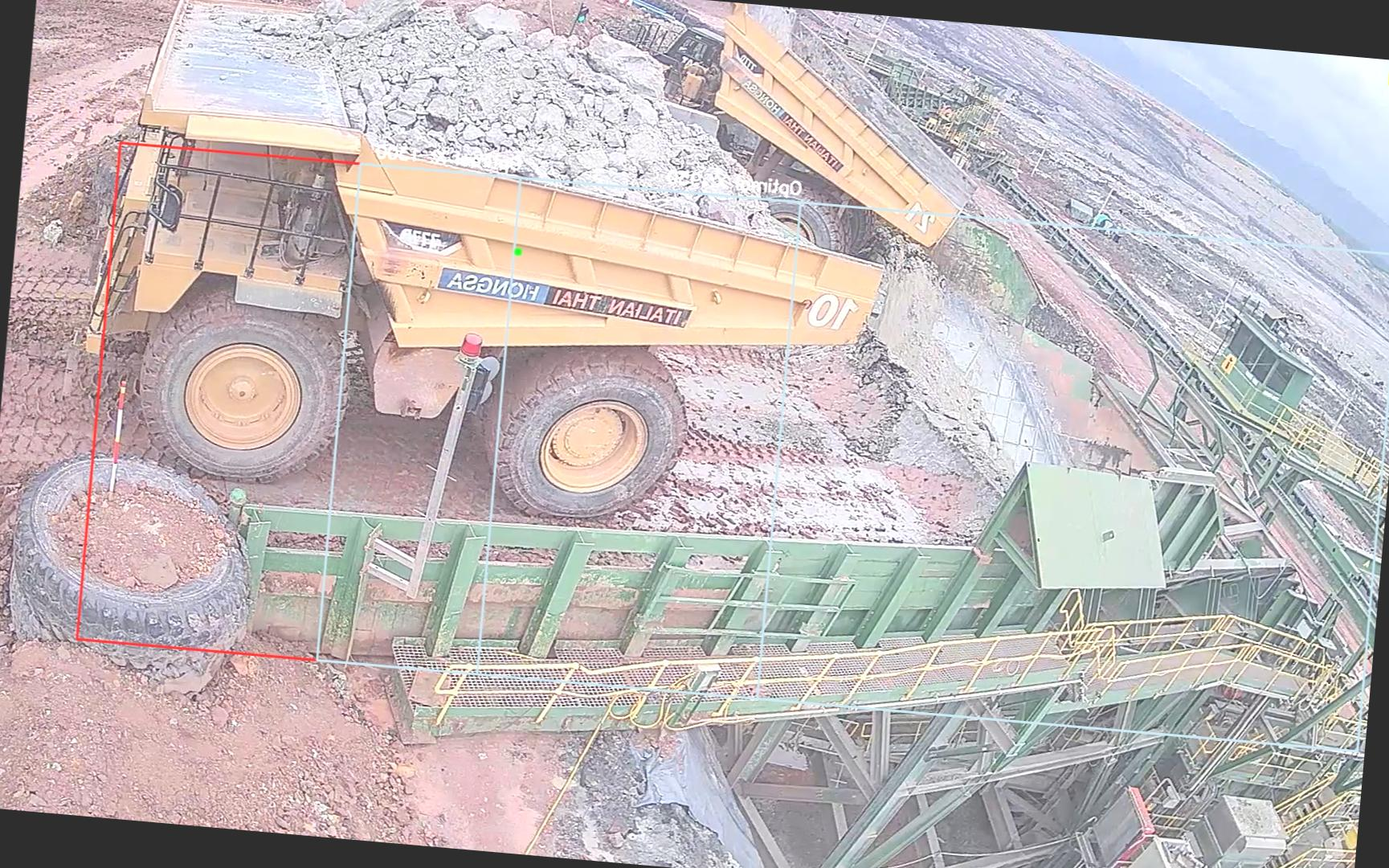company: (428, 262, 699, 333)
full_load: (329, 0, 737, 215)
mining_truck: (65, 0, 903, 544)
tail_number: (799, 284, 860, 342)
truck_size: (381, 215, 467, 259)
